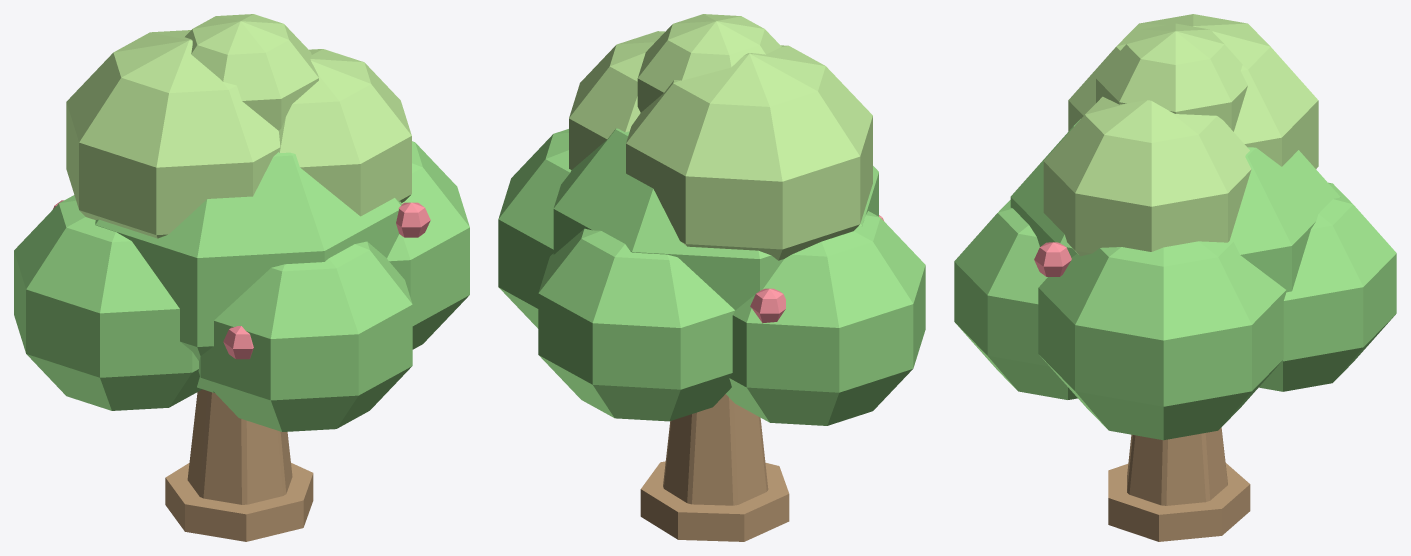
Rendered from CF_Tree.fbx.
3 views of the same model, side by side, from view 1: azimuth 30°, elevation 25°; view 2: azimuth 150°, elevation 25°; view 3: azimuth 270°, elevation 25° (orthographic). The views are drawn at different scales.
Visible parts, largest first — view 1: CF_Tree_Leaf, CF_Tree_LeafLight, CF_Tree_Bark, CF_Tree_Fruit; view 2: CF_Tree_Leaf, CF_Tree_LeafLight, CF_Tree_Bark, CF_Tree_Fruit; view 3: CF_Tree_Leaf, CF_Tree_LeafLight, CF_Tree_Bark, CF_Tree_Fruit.
Part boxes in pixels (left/top/right/bottom): CF_Tree_Leaf: left=14, top=141, right=469, bottom=431; CF_Tree_LeafLight: left=66, top=14, right=411, bottom=238; CF_Tree_Bark: left=165, top=389, right=313, bottom=541; CF_Tree_Fruit: left=53, top=200, right=430, bottom=359; CF_Tree_Leaf: left=498, top=128, right=925, bottom=425; CF_Tree_LeafLight: left=569, top=14, right=872, bottom=260; CF_Tree_Bark: left=640, top=394, right=789, bottom=541; CF_Tree_Fruit: left=750, top=215, right=883, bottom=323; CF_Tree_Leaf: left=954, top=119, right=1396, bottom=440; CF_Tree_LeafLight: left=1043, top=14, right=1318, bottom=256; CF_Tree_Bark: left=1108, top=427, right=1250, bottom=541; CF_Tree_Fruit: left=1034, top=242, right=1071, bottom=276.
Bounding box in the file's own units: 7.89 × 8.86 × 7.4.
